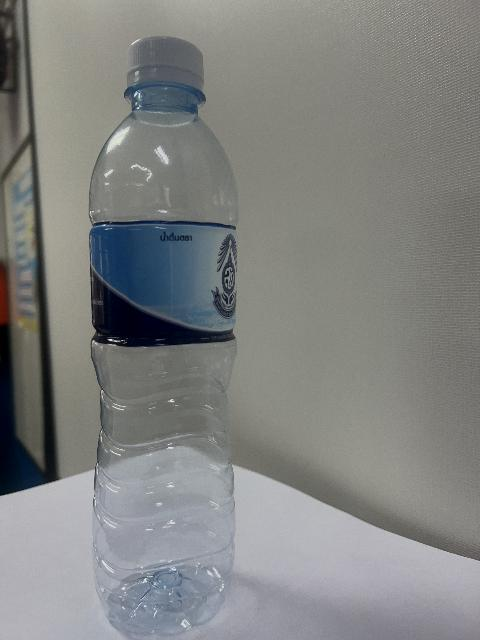bottle: (90, 38, 237, 637)
